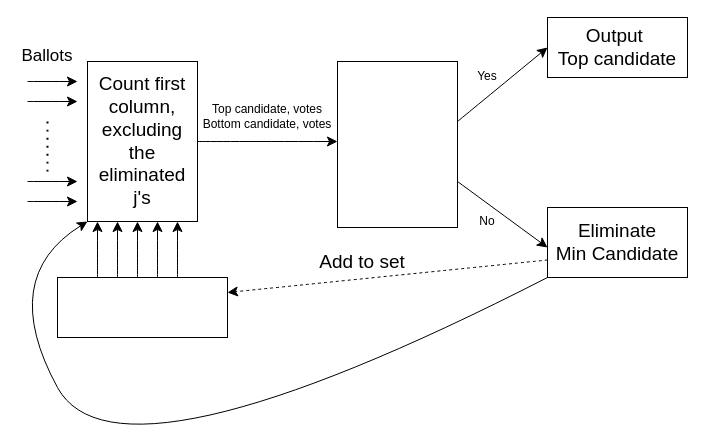
This 705x442 diagram has some shape labels left out. The shapes that lost their labels are listed below. From the top down, each one's centre as x and y in pixels, then its label:
At point 397,144: "Conditional Top candidate votes >= n/2?".
At point 142,307: "Eliminated j's (Set)".
